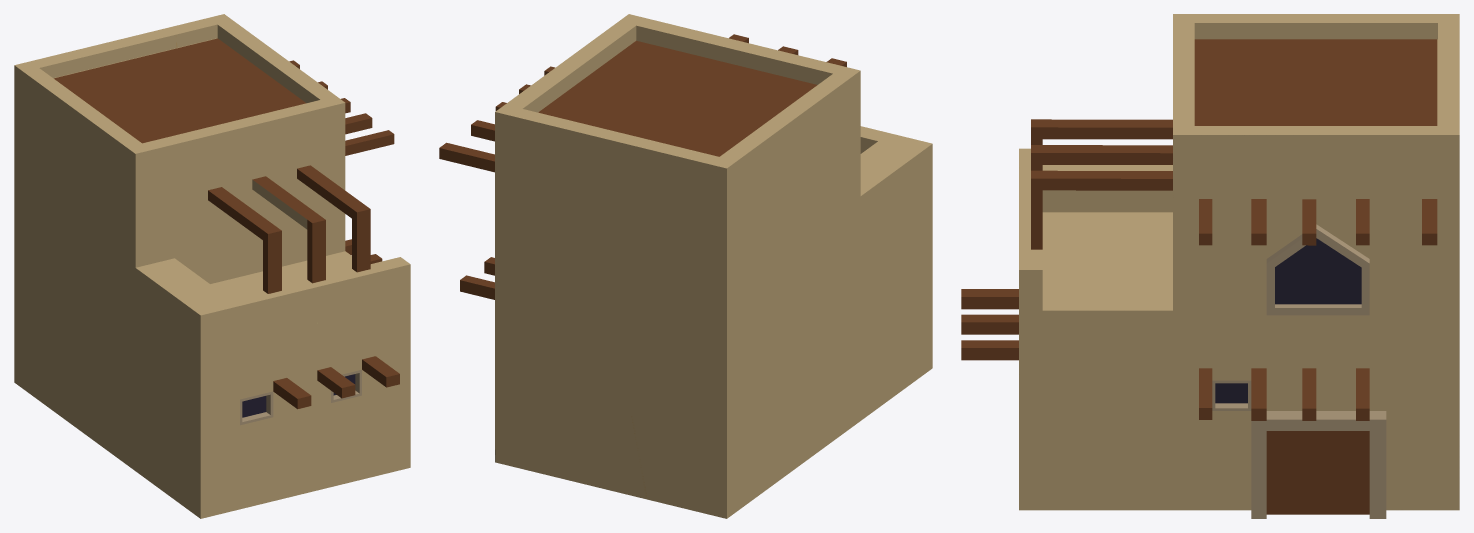
The model's file is Casa2.fbx.
3 renders of one model, left to right at view 1: azimuth 30°, elevation 25°; view 2: azimuth 150°, elevation 25°; view 3: azimuth 270°, elevation 25°, orthographic. The views are drawn at different scales.
Visible parts, largest first — view 1: Cube; view 2: Cube; view 3: Cube.
Part boxes in pixels (bbox=[...]): Cube: bbox=[14, 14, 410, 518]; Cube: bbox=[439, 14, 932, 518]; Cube: bbox=[961, 14, 1459, 518].
Bounding box in the file's own units: 2.67 × 2.89 × 3.48.
4 materials, 1 textured.
